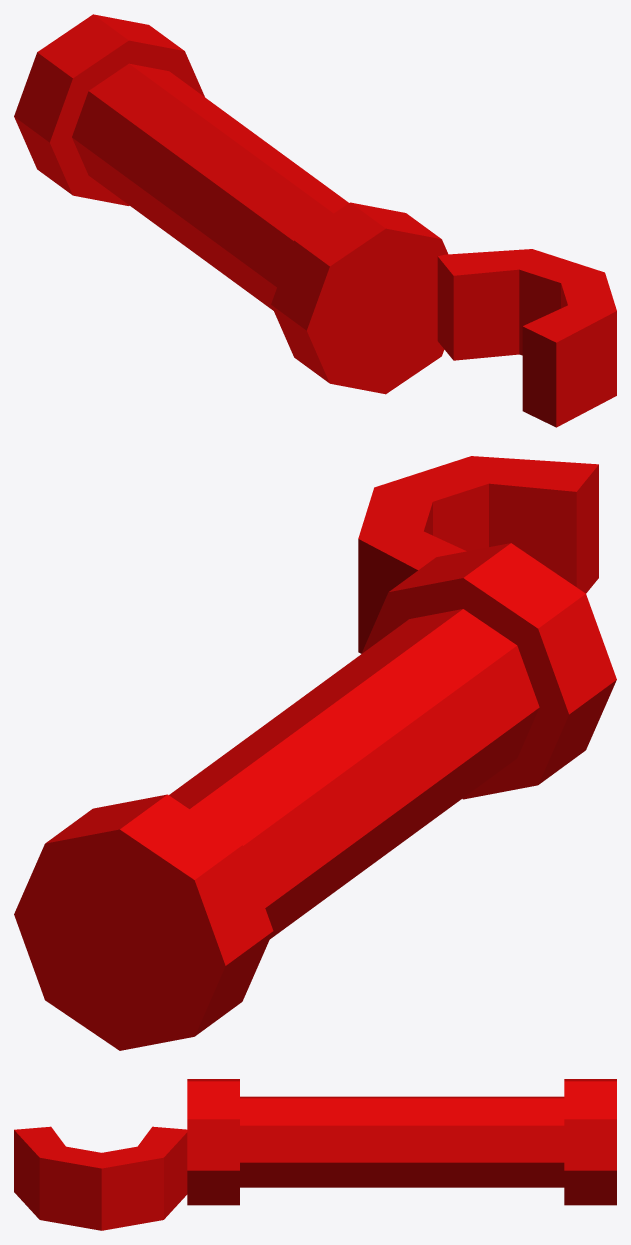
Rendered from Asset_KeyFragment2.glb.
The picture shows the model from 3 angles, top to bottom: view 1: azimuth 30°, elevation 25°; view 2: azimuth 150°, elevation 25°; view 3: azimuth 270°, elevation 25°; orthographic projection. The views are drawn at different scales.
Parts seen in each view (by area): view 1: Asset_KeyFragment2; view 2: Asset_KeyFragment2; view 3: Asset_KeyFragment2.
Boxes of the visible parts, x1,y1,x2,y2 form: Asset_KeyFragment2: (14,14,616,427); Asset_KeyFragment2: (14,456,616,1050); Asset_KeyFragment2: (14,1079,616,1230).
Size of the model in its own units: 0.1682 by 0.111 by 0.499.
